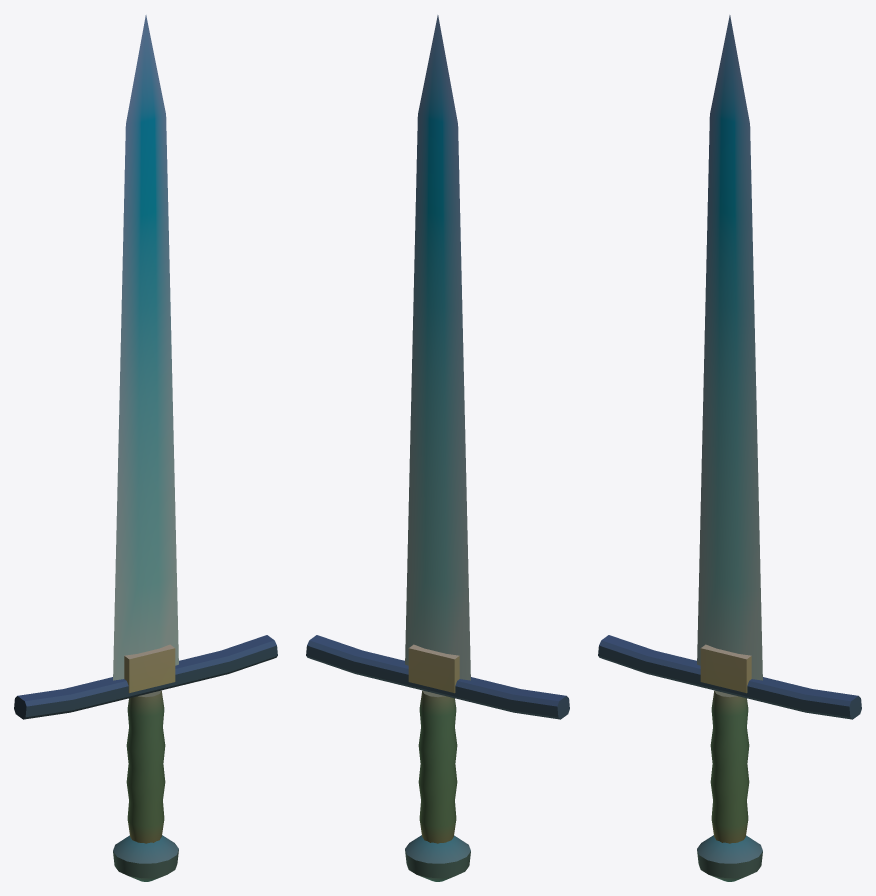
File: sword_cloister.glb
The picture shows the model from 3 angles, left to right: view 1: azimuth 30°, elevation 25°; view 2: azimuth 150°, elevation 25°; view 3: azimuth 330°, elevation 25°; orthographic projection.
Parts seen in each view (by area): view 1: blade, cross, grip, pommel, rainguard; view 2: blade, cross, grip, pommel, rainguard; view 3: blade, cross, grip, pommel, rainguard.
Boxes of the visible parts, box(x1,y1,x2,y2) form: blade: box(113, 15, 178, 680); cross: box(14, 635, 277, 719); grip: box(126, 690, 165, 843); pommel: box(113, 835, 178, 881); rainguard: box(124, 644, 175, 693); blade: box(405, 15, 470, 680); cross: box(306, 635, 569, 719); grip: box(418, 690, 457, 843); pommel: box(405, 835, 470, 881); rainguard: box(408, 644, 459, 693); blade: box(697, 15, 762, 680); cross: box(598, 635, 861, 719); grip: box(710, 690, 749, 843); pommel: box(697, 835, 762, 881); rainguard: box(700, 644, 751, 693).
Bounding box in the file's own units: 0.3522 × 1.15 × 0.078.
